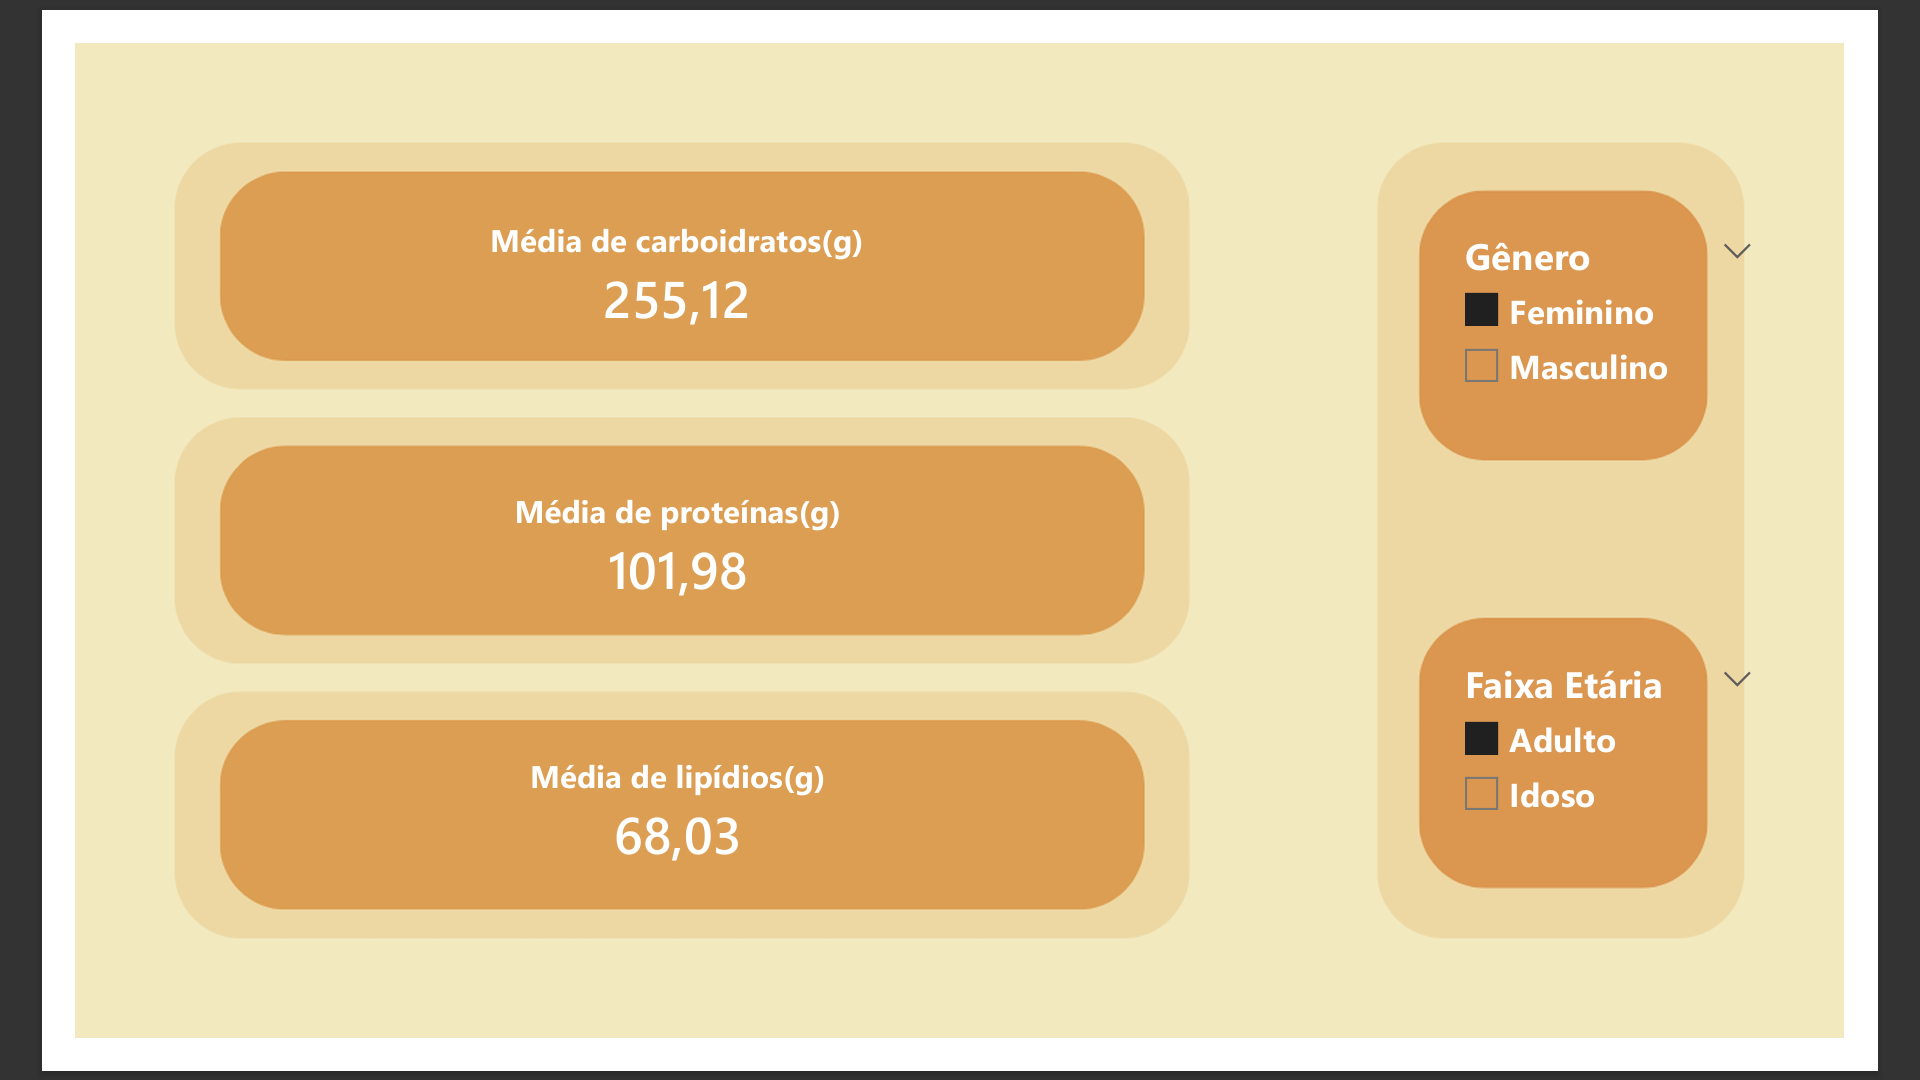

What the dashboard file says about the page in this screenshot:
{"tool":"powerbi","page":{"name":"Informação","canvas":[1280,720],"ordinal":5},"visuals":[{"type":"slicer","fields":{"Values":["Personal_DATA.Gênero"]},"box":[993.2,130.3,233.3,229.2],"z":0},{"type":"slicer","fields":{"Values":["Personal_DATA.Faixa Etária"]},"box":[993.2,440.5,233.3,229.2],"z":1000},{"type":"cardVisual","fields":{"Data":["Avg(Formula_DATA.Carboidratos)"]},"box":[128,90.2,615.6,154.7],"z":2000},{"type":"cardVisual","fields":{"Data":["Avg(Formula_DATA.Lipídios)"]},"box":[128,478.7,616.7,153.6],"z":3000},{"type":"cardVisual","fields":{"Data":["Avg(Formula_DATA.Proteínas )"]},"box":[128,287.2,616.7,153.6],"z":4000}]}

Visuals, with their boxes in screenshot pixels (x1, y1, x2, y2), scaled from the page's 1280x720 canvas onto the 1920x1080 screenshot:
slicer - Personal_DATA.Gênero: [left=1490, top=195, right=1840, bottom=539]
slicer - Personal_DATA.Faixa Etária: [left=1490, top=661, right=1840, bottom=1005]
cardVisual - Avg(Formula_DATA.Carboidratos): [left=192, top=135, right=1115, bottom=367]
cardVisual - Avg(Formula_DATA.Lipídios): [left=192, top=718, right=1117, bottom=948]
cardVisual - Avg(Formula_DATA.Proteínas ): [left=192, top=431, right=1117, bottom=661]
